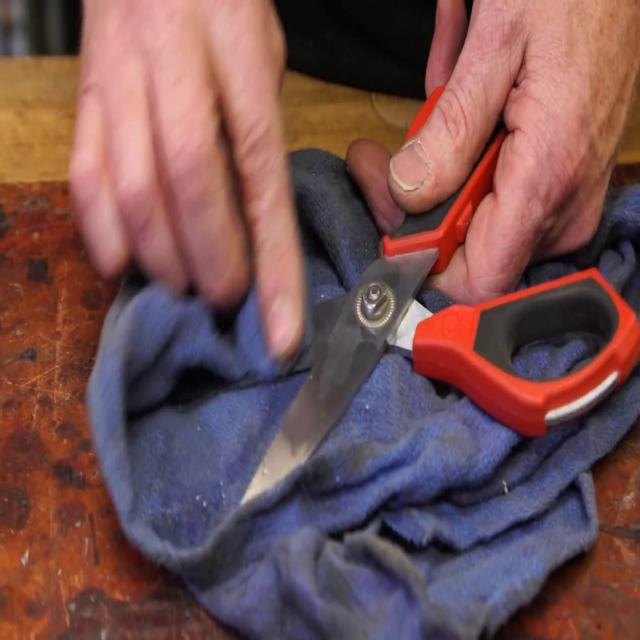scissor: (166, 82, 640, 505)
